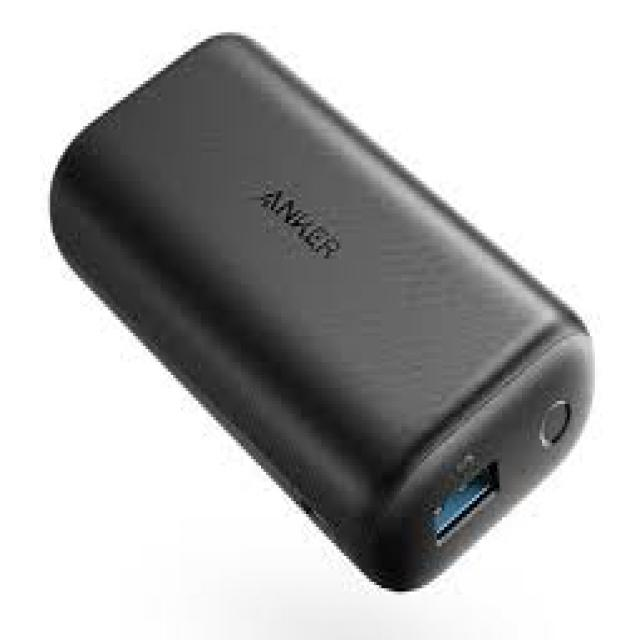non-organic waste: (43, 27, 593, 596)
